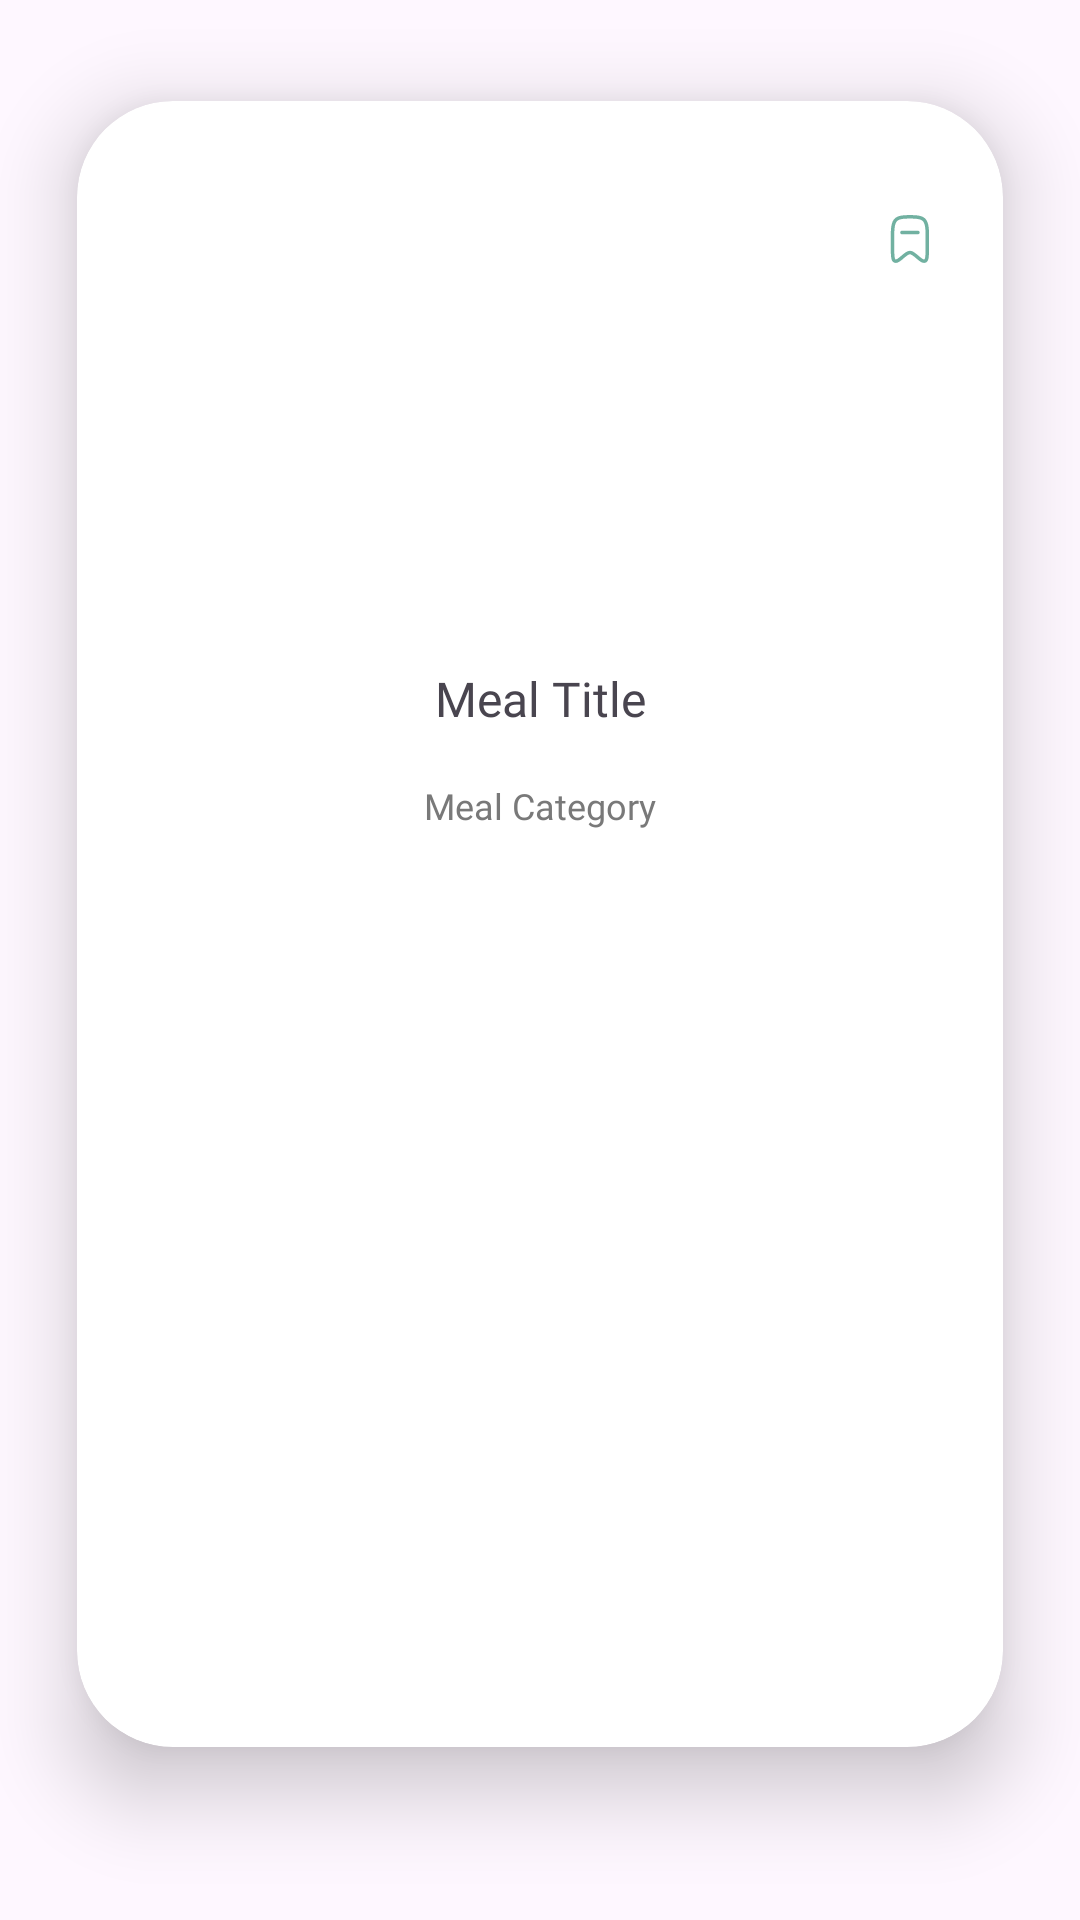

Where to tap for icons on this 1080*1920 app screen, as (x,y):
add to fav: (909,239)
